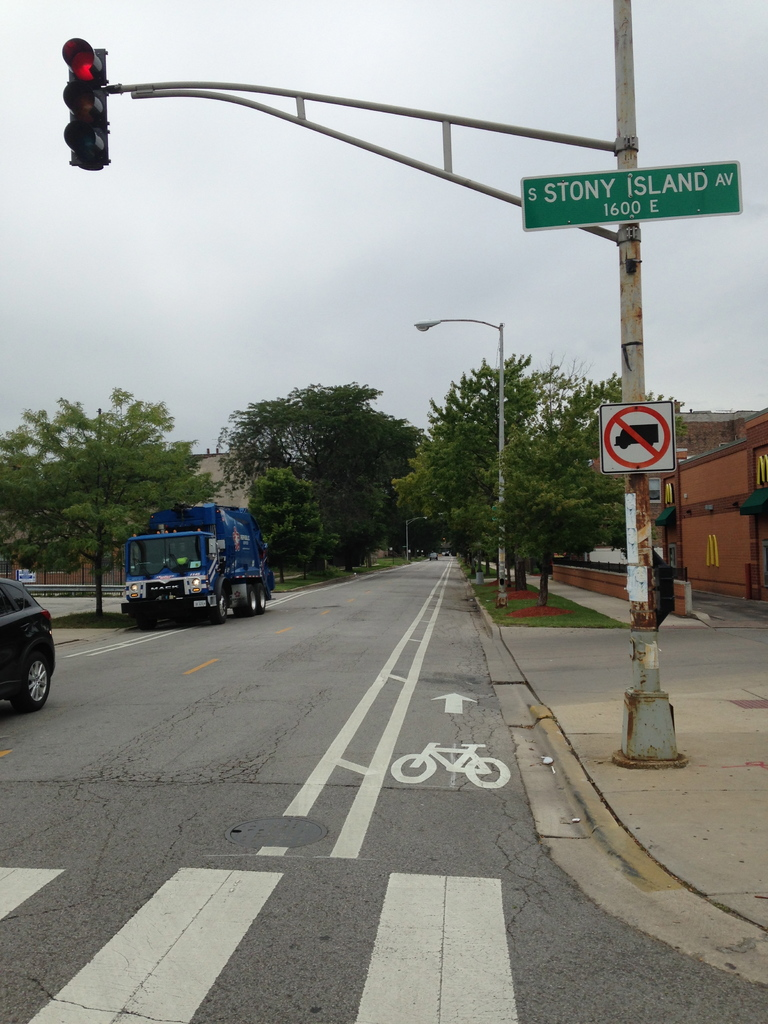red_light: (62, 43, 106, 162)
